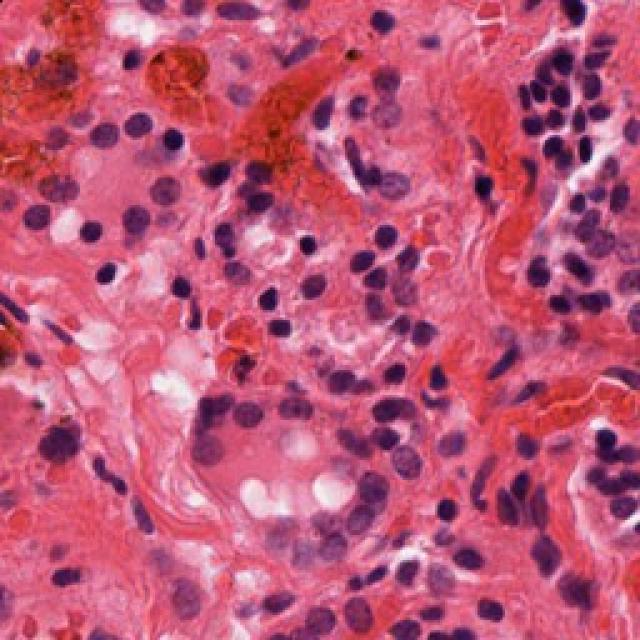normal: (348, 452, 404, 515), (267, 380, 320, 445), (142, 168, 203, 220), (331, 581, 383, 640), (80, 110, 133, 165), (383, 430, 430, 492), (188, 425, 242, 478), (33, 173, 92, 220), (367, 83, 415, 138), (301, 83, 351, 135), (308, 525, 355, 578), (295, 595, 348, 640), (368, 163, 420, 207), (230, 387, 273, 440), (113, 203, 163, 247), (120, 103, 157, 147), (338, 497, 375, 540)
